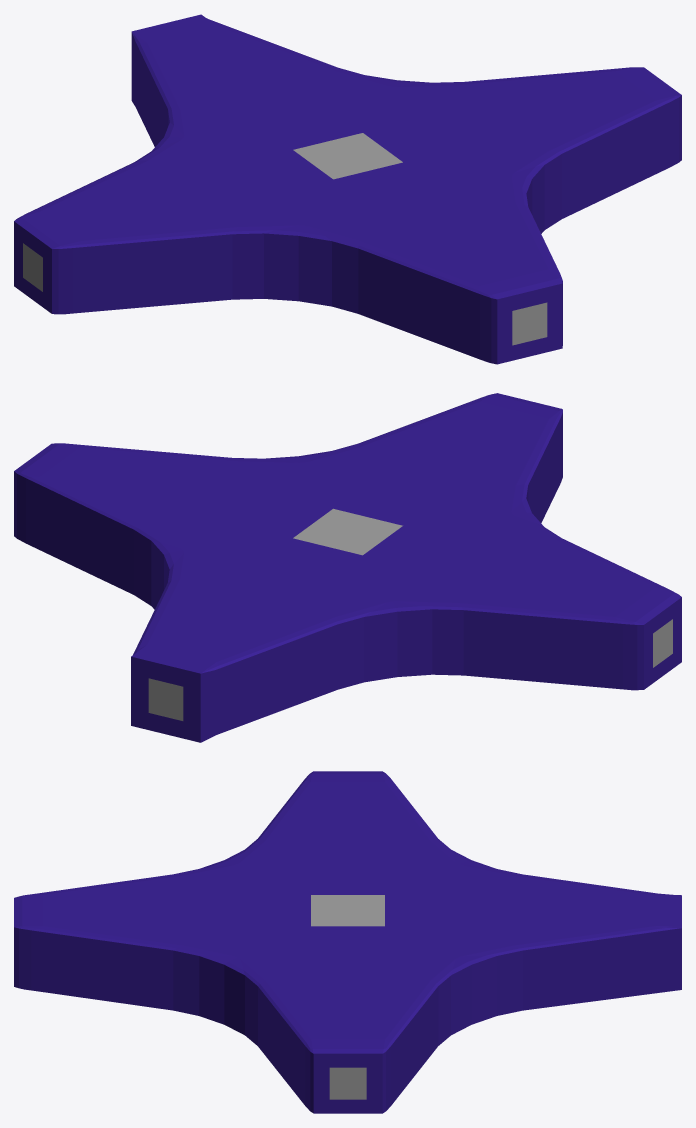
The model's file is Body.glb.
The picture shows the model from 3 angles, top to bottom: view 1: azimuth 30°, elevation 25°; view 2: azimuth 150°, elevation 25°; view 3: azimuth 270°, elevation 25°; orthographic projection. The views are drawn at different scales.
Visible parts, largest first — view 1: Body; view 2: Body; view 3: Body.
Part boxes in pixels (box(x1,y1,x2,y2)): Body: box(14, 14, 681, 364); Body: box(14, 393, 681, 742); Body: box(14, 771, 681, 1113).
Size of what is drawn, in the model's own units: 0.8 by 0.084 by 0.8.
